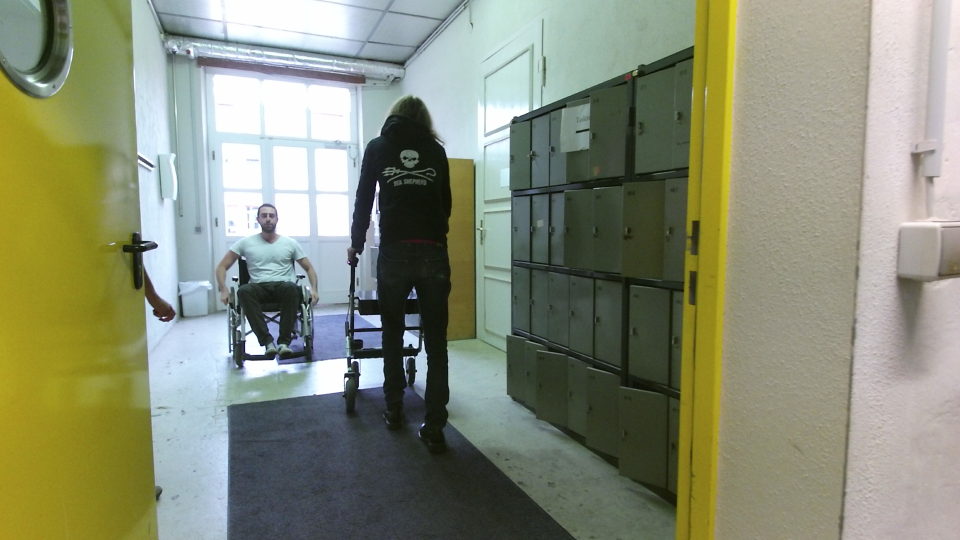wheelchair: (209, 197, 322, 373)
